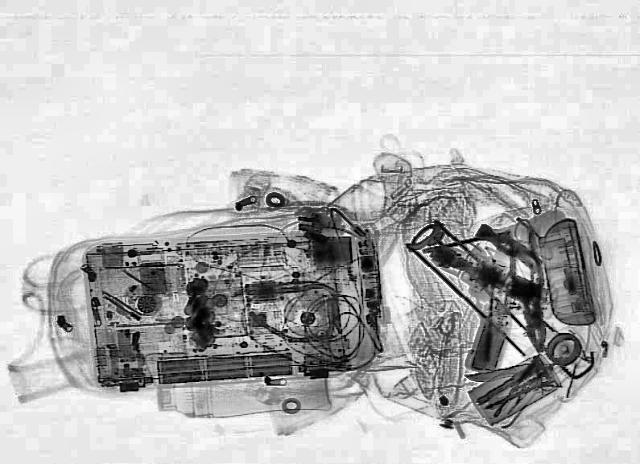Knife: (461, 360, 535, 384)
